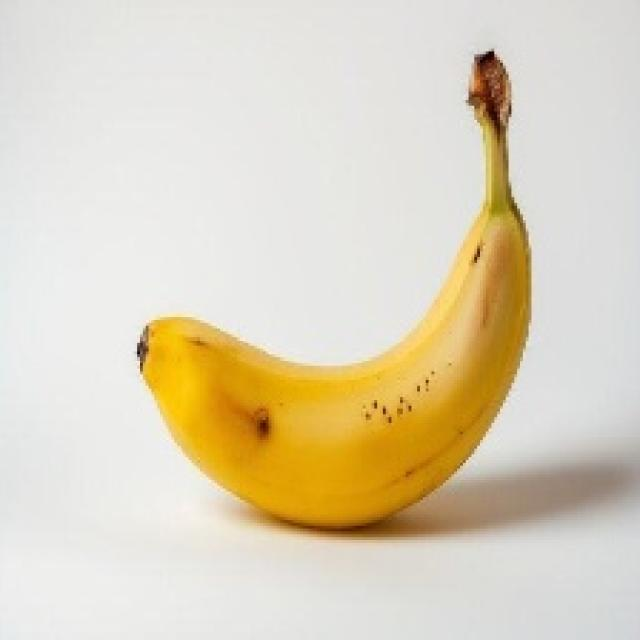Banana: (134, 49, 532, 528)
